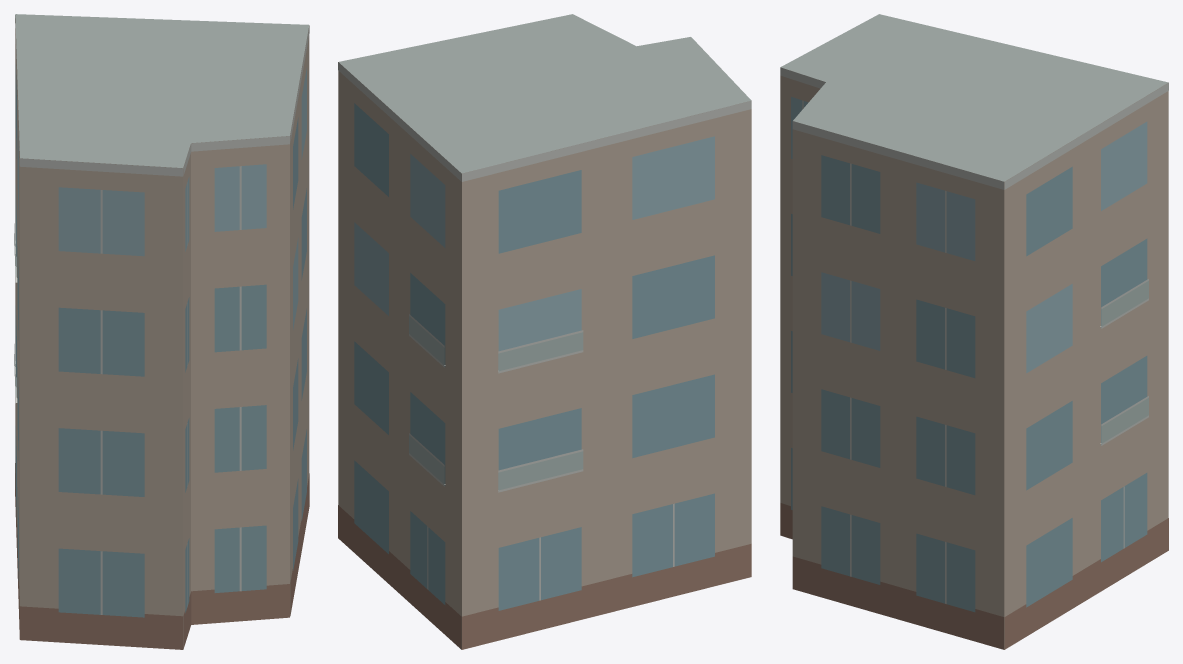
File: survey-upis-33031269.glb
3 views of the same model, side by side, from view 1: azimuth 30°, elevation 25°; view 2: azimuth 150°, elevation 25°; view 3: azimuth 270°, elevation 25° (orthographic). The views are drawn at different scales.
Parts seen in each view (by area): view 1: survey-upis-33031269.tmp; view 2: survey-upis-33031269.tmp; view 3: survey-upis-33031269.tmp.
Part boxes in pixels (x1=…): survey-upis-33031269.tmp: x1=14, y1=14, x2=309, y2=649; survey-upis-33031269.tmp: x1=338, y1=14, x2=751, y2=649; survey-upis-33031269.tmp: x1=780, y1=14, x2=1168, y2=649.
Bounding box in the file's own units: 10.61 × 13.8 × 10.39.
